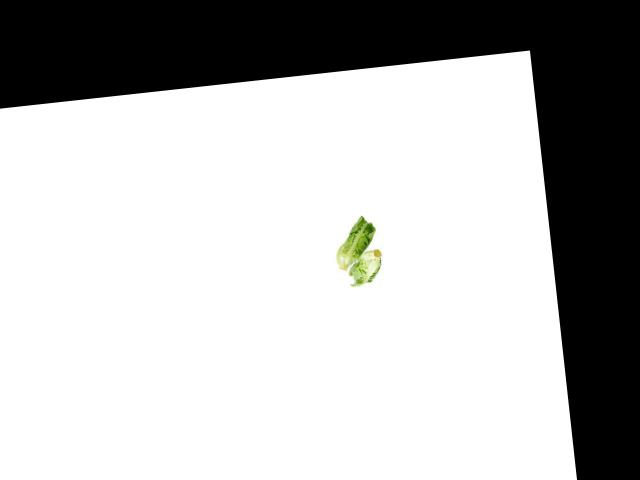lettuce: (331, 216, 393, 290)
